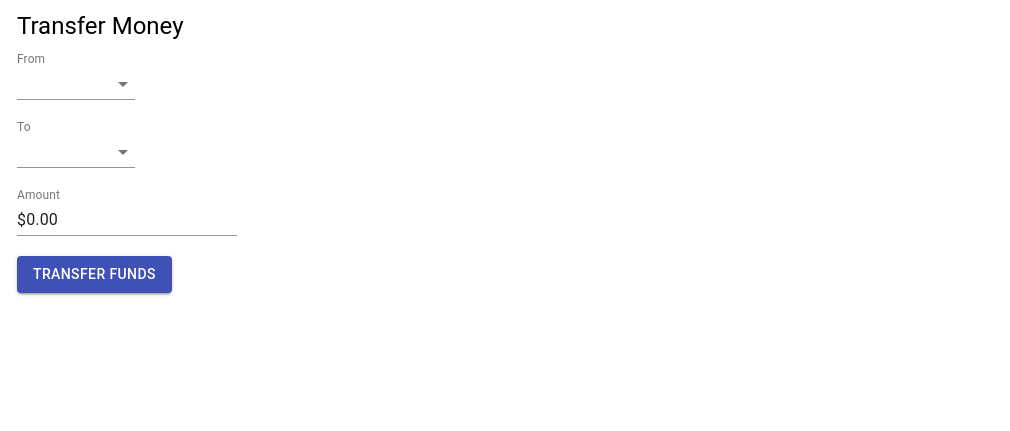
Scenario: <TransferPage /> › should error out with multiple errors, both with amount and account
Select "Example2 - 2" in the dropdown labelled "From" at (76, 84), box top-left (17, 68), bottom-right (135, 100)
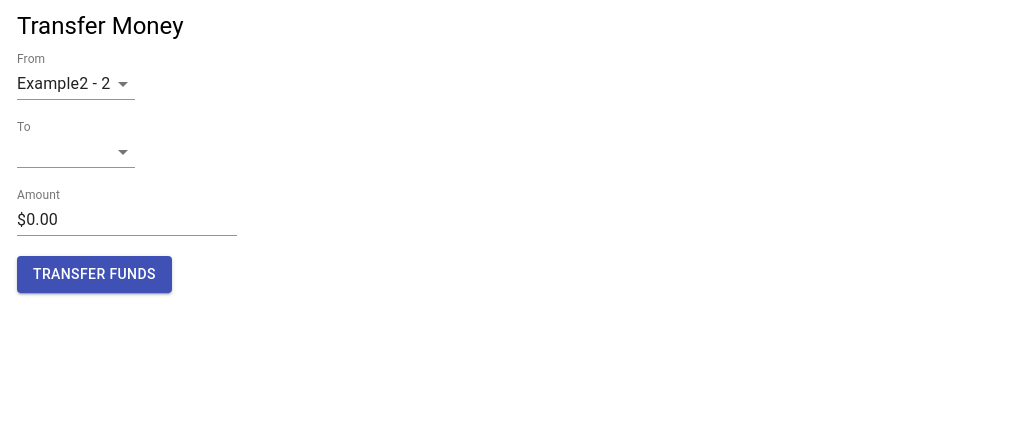
Click the button with test id "start-transfer-button" at (94, 274), box top-left (17, 256), bottom-right (172, 292)
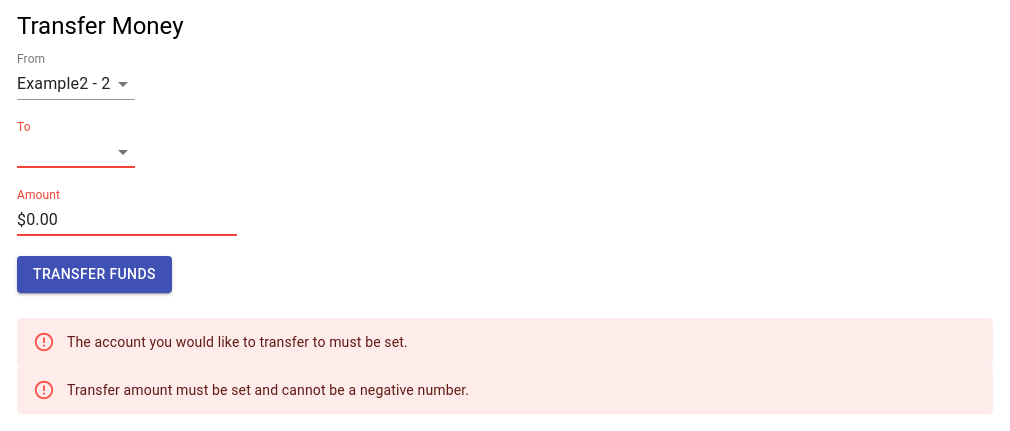
expect the text "The account you would like to transfer to must be set." is shown: met, box top-left (67, 334), bottom-right (408, 350)
expect the text "Transfer amount must be set and cannot be a negative number." is shown: met, box top-left (67, 382), bottom-right (469, 398)
